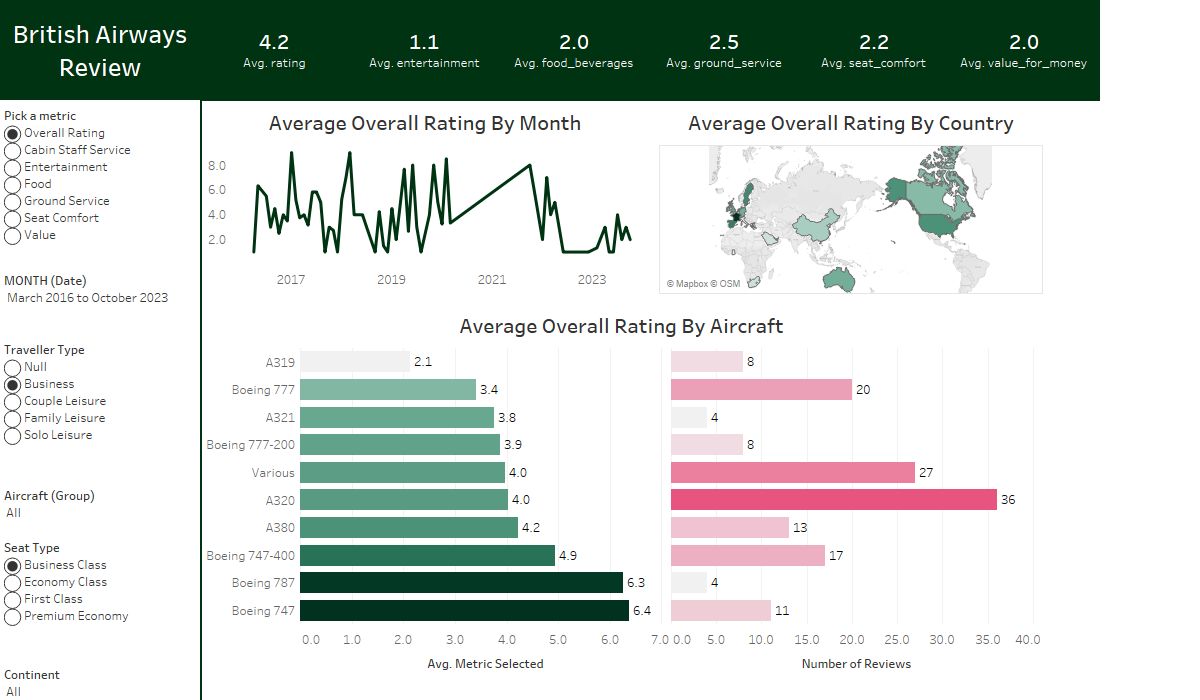

The page's visual inventory and layout, read from the dashboard file:
{"tool":"tableau","page":{"name":"Dashboard 1","canvas":[1200,700],"ordinal":0},"visuals":[{"type":"text","box":[0,0,200,100]},{"type":"worksheet","title":"Summa","mark":"Automatic","box":[200,0,900,100]},{"type":"blank","box":[200,100,2,600]},{"type":"parameter","param":"[Parameters].[Parameter 1]","box":[0,102,201,165]},{"type":"worksheet","title":"Month","mark":"Automatic","rows":["Calculation_1090434116542603264"],"cols":["date"],"box":[200,102,450,192]},{"type":"worksheet","title":"Map","mark":"Automatic","box":[659,102,384,192]},{"type":"filter","title":"Map","param":"[federated.04i89351m72g27168lg7o0zqte5s].[tmn:date:qk]","box":[0,267,201,69]},{"type":"worksheet","title":"Sheet 4","mark":"Automatic","cols":["Calculation_1090434116542603264","Number of Records"],"box":[200,305,843,374]},{"type":"filter","title":"Map","param":"[federated.04i89351m72g27168lg7o0zqte5s].[none:traveller_type:nk]","box":[0,336,201,146]},{"type":"filter","title":"Map","param":"[federated.04i89351m72g27168lg7o0zqte5s].[aircraft (group)]","box":[0,482,201,52]},{"type":"filter","title":"Map","param":"[federated.04i89351m72g27168lg7o0zqte5s].[none:seat_type:nk]","box":[0,534,201,127]}]}

Visuals, with their boxes in screenshot pixels (x1, y1, x2, y2), scaled from the page's 1200x700 canvas onto the 1200x700 screenshot:
text: region(0, 0, 200, 100)
"Summa" worksheet: region(200, 0, 1100, 100)
blank: region(200, 100, 202, 699)
parameter: region(0, 102, 201, 267)
"Month" worksheet: region(200, 102, 650, 294)
"Map" worksheet: region(659, 102, 1043, 294)
"Map" filter: region(0, 267, 201, 336)
"Sheet 4" worksheet: region(200, 305, 1043, 679)
"Map" filter: region(0, 336, 201, 482)
"Map" filter: region(0, 482, 201, 534)
"Map" filter: region(0, 534, 201, 661)
